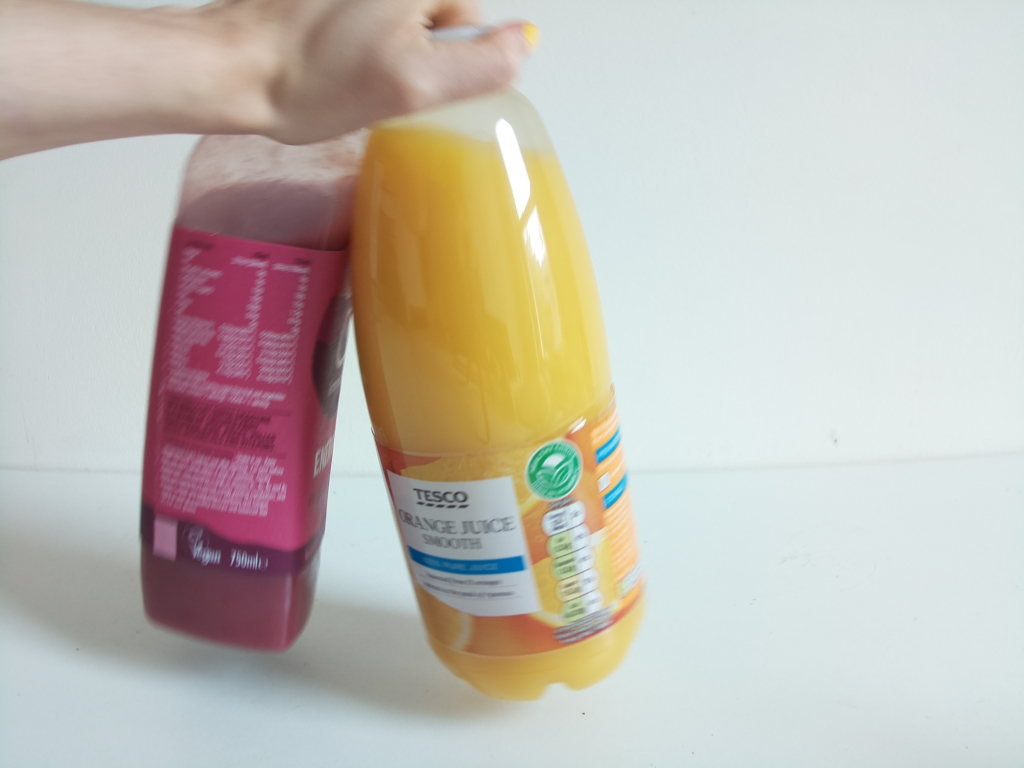juice: (354, 31, 649, 705), (136, 101, 370, 656)
